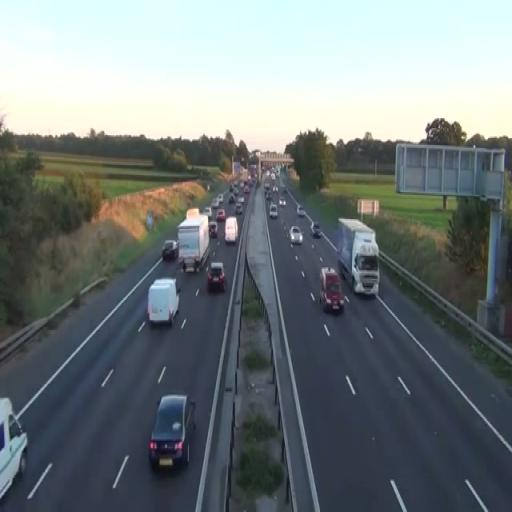Car: (148, 394, 197, 471), (206, 262, 226, 293), (162, 239, 179, 262), (224, 216, 238, 243), (288, 226, 303, 246), (310, 221, 322, 238), (208, 218, 218, 238), (269, 203, 278, 219), (216, 208, 226, 222), (297, 206, 306, 218)
Truck: (337, 218, 380, 297), (0, 396, 29, 500), (177, 212, 210, 274), (146, 277, 180, 327), (320, 266, 344, 314)
